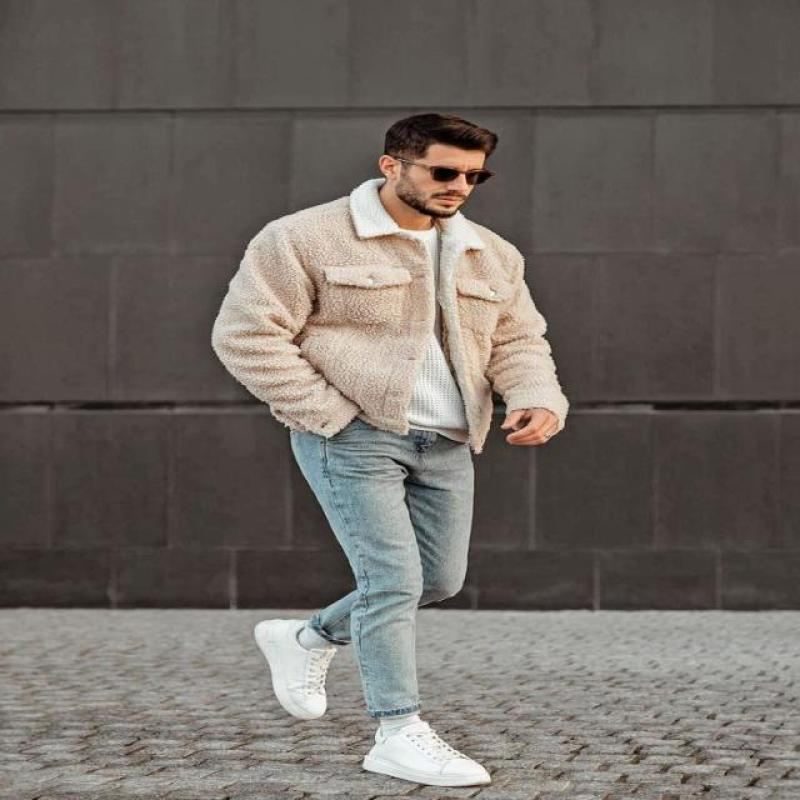jacket: (209, 173, 571, 456)
trousers: (287, 418, 477, 726)
